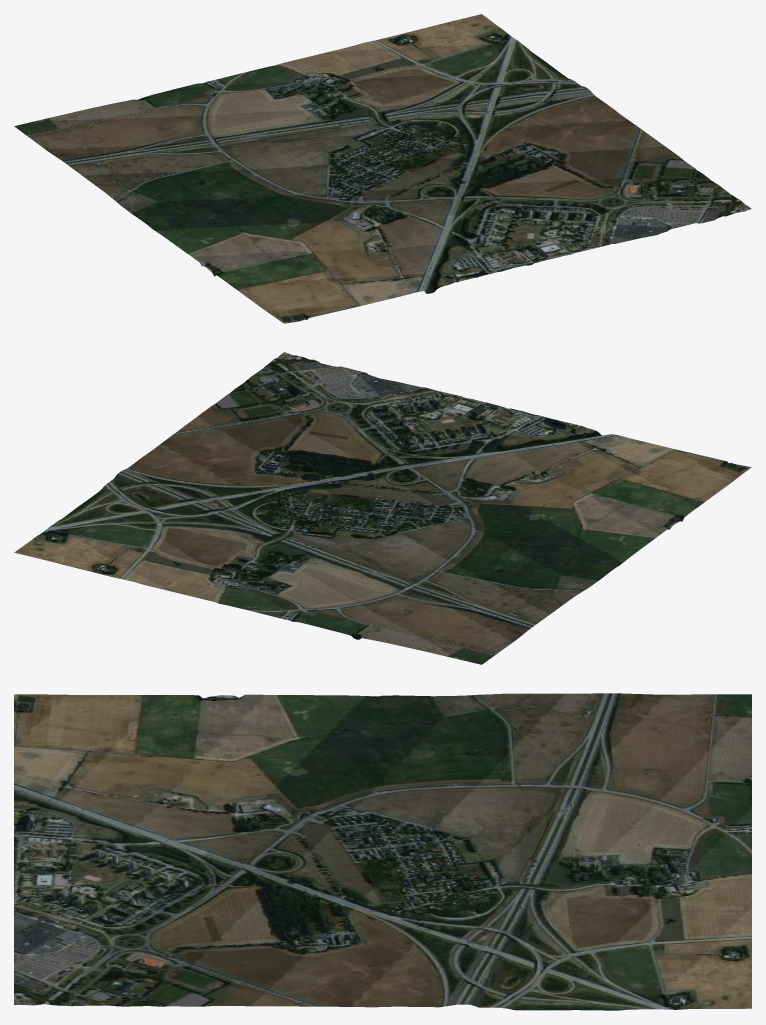
Rendered from map_10_252_428.dae.
3 renders of one model, top to bottom at view 1: azimuth 30°, elevation 25°; view 2: azimuth 150°, elevation 25°; view 3: azimuth 270°, elevation 25°, orthographic. The views are drawn at different scales.
Parts seen in each view (by area): view 1: Ter0; view 2: Ter0; view 3: Ter0.
Boxes of the visible parts, x1,y1,x2,y2 form: Ter0: (14,14,751,323); Ter0: (14,352,751,664); Ter0: (14,693,751,1010).
Bounding box in the file's own units: 2044 × 2044 × 36.2.
Materials: 3 (3 with a texture image).
